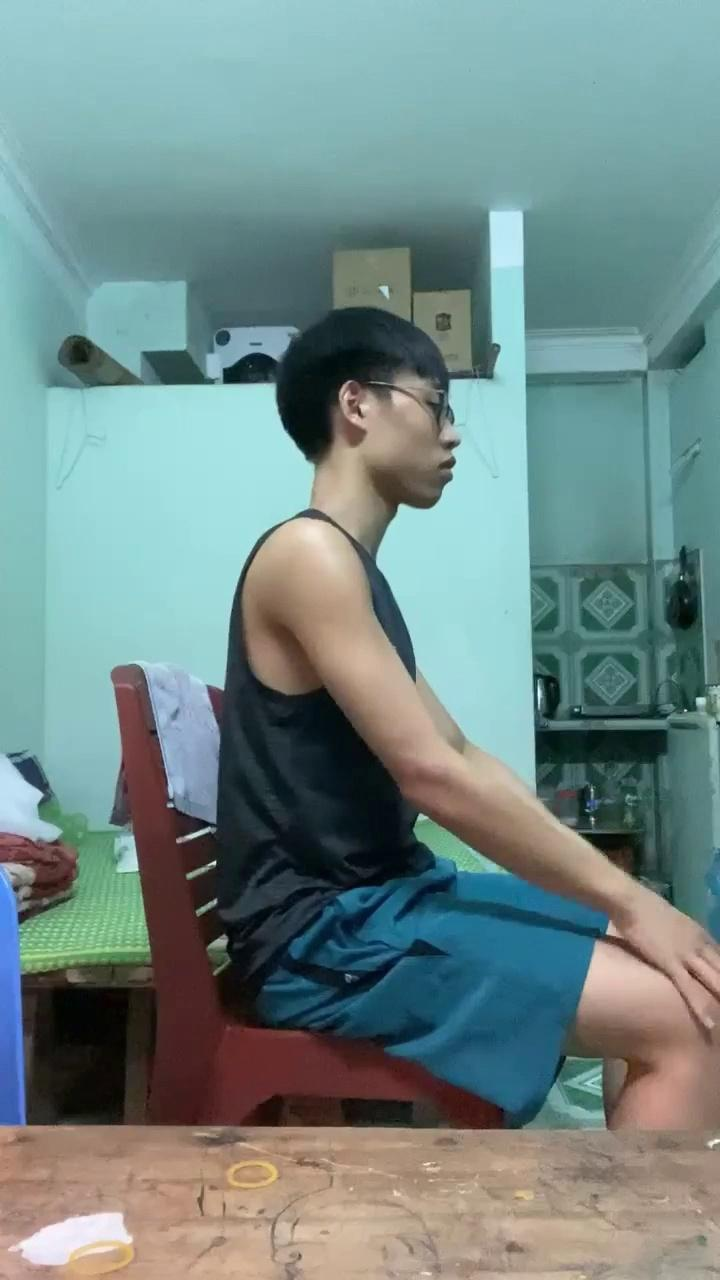GoodPosture: (216, 307, 719, 1107)
